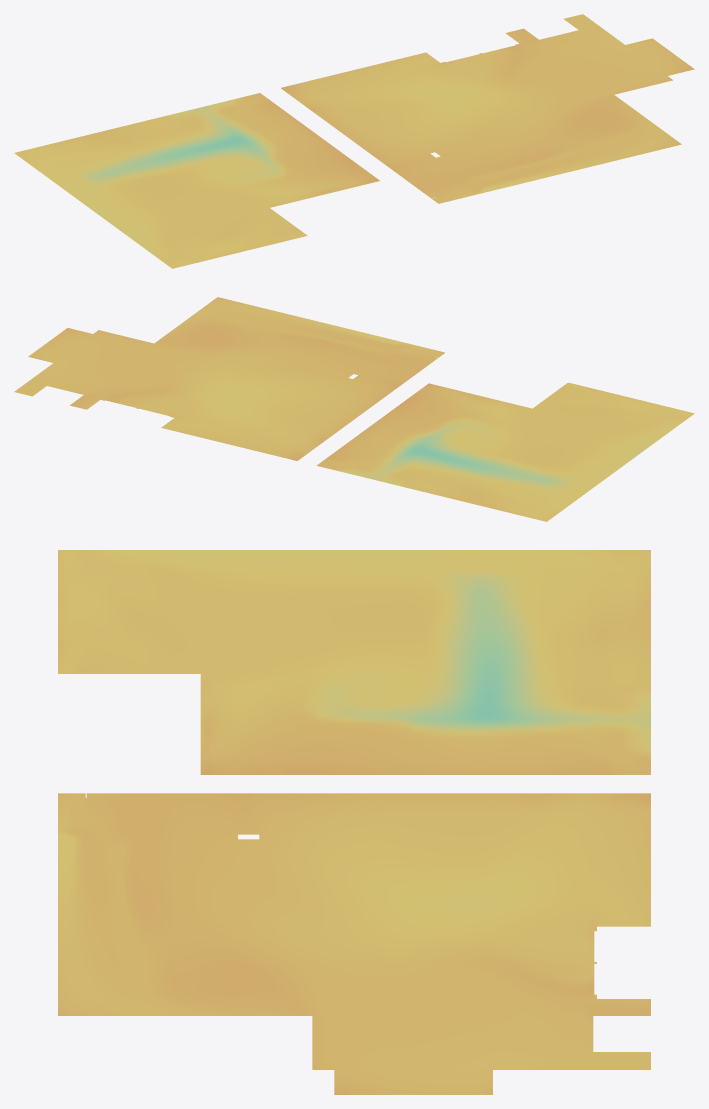
File: A_temperature_z2.2.glb
The picture shows the model from 3 angles, top to bottom: view 1: azimuth 30°, elevation 25°; view 2: azimuth 150°, elevation 25°; view 3: azimuth 270°, elevation 25°; orthographic projection. The views are drawn at different scales.
Size of the model in its own units: 7.08 by 0 by 3.26.
